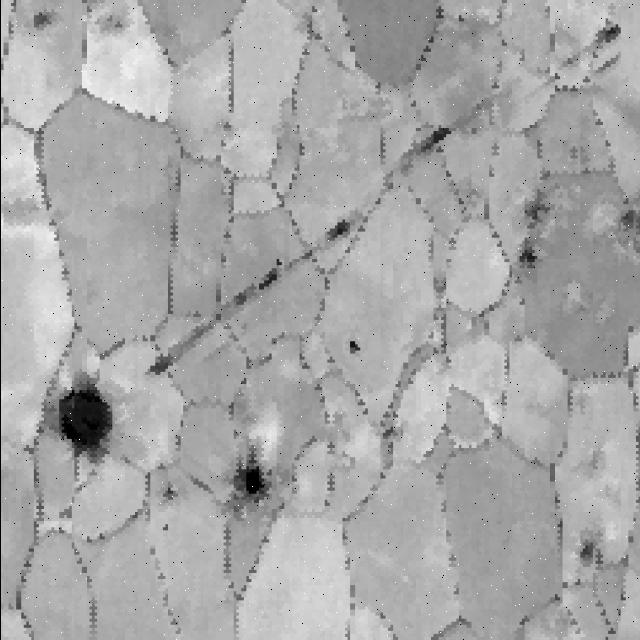good_void: (49, 371, 112, 462), (233, 256, 294, 315), (229, 447, 277, 502), (590, 12, 630, 60), (409, 125, 451, 166), (318, 208, 354, 251), (27, 1, 58, 41), (138, 359, 174, 393), (516, 197, 547, 231), (379, 421, 404, 457), (575, 542, 601, 576), (92, 12, 127, 37), (516, 240, 540, 274), (345, 331, 360, 363), (158, 486, 178, 505), (158, 524, 171, 544)
